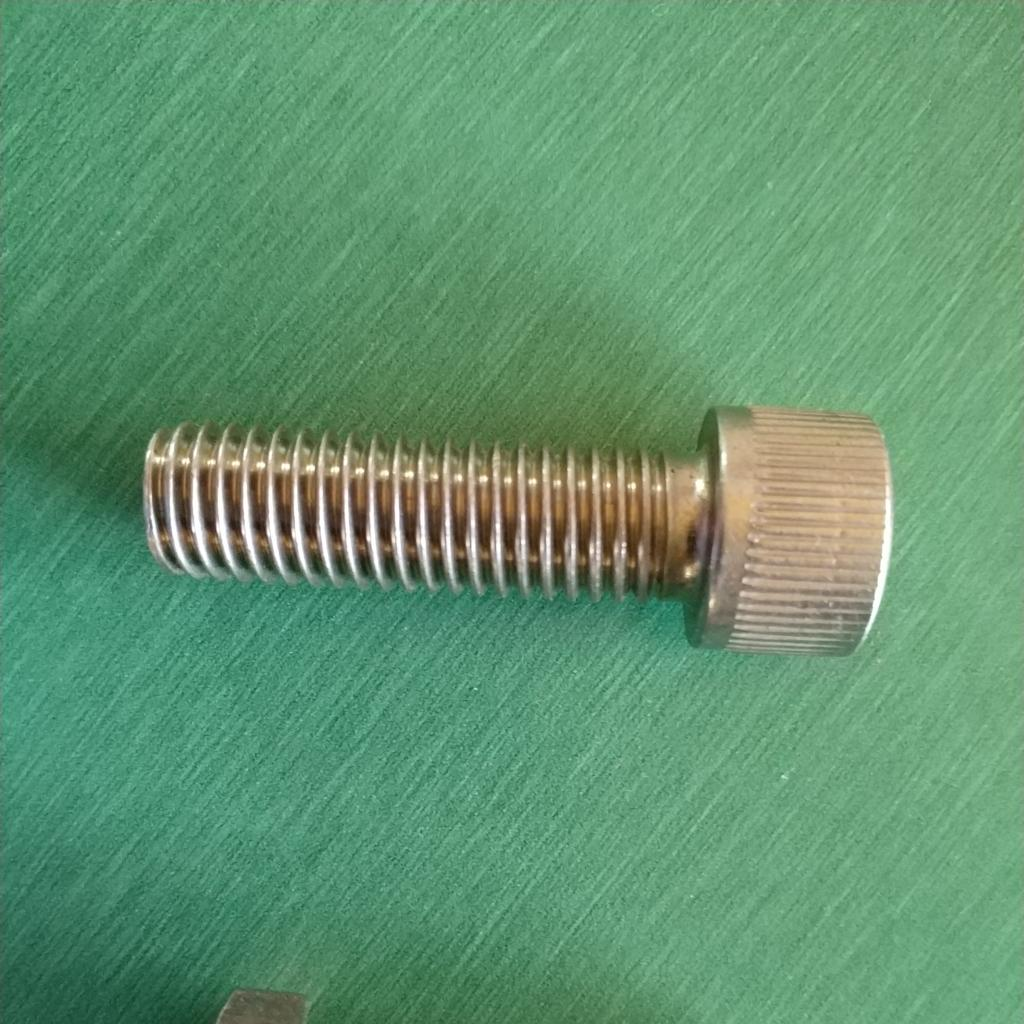screwtype1silver: (131, 378, 893, 672)
